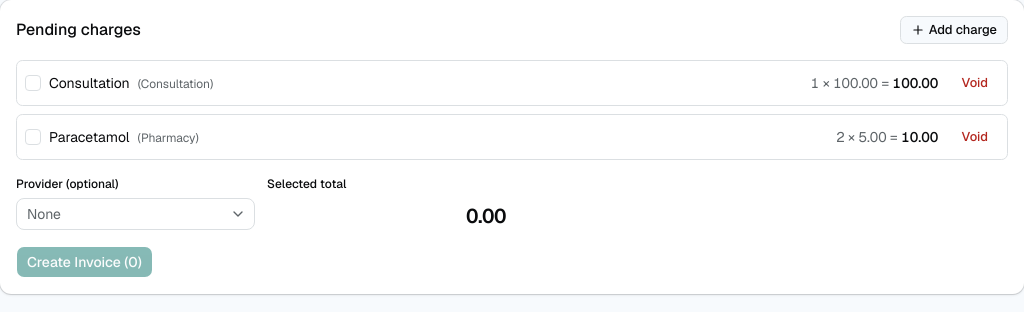
Test: PendingCharges — selection drives invoice-creation state › enables Create Invoice with the real count and total once a charge is selected, and reverts when deselected
Click the 1st checkbox named "consultation".
click(33, 83)  # box [25,75,41,91]
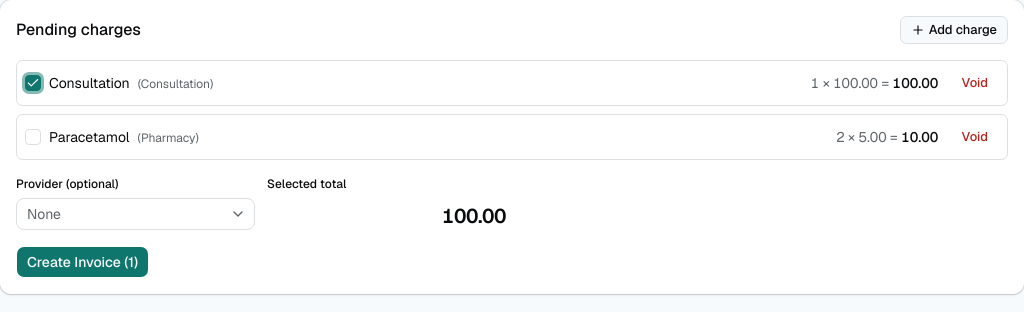
Expected: the button "Create Invoice (1)" is enabled, [16,246,149,278]
Expected: the text "Selected total 100.00" is shown, [267,176,506,230]
Click the 1st checkbox named "consultation".
click(33, 83)  # box [25,75,41,91]
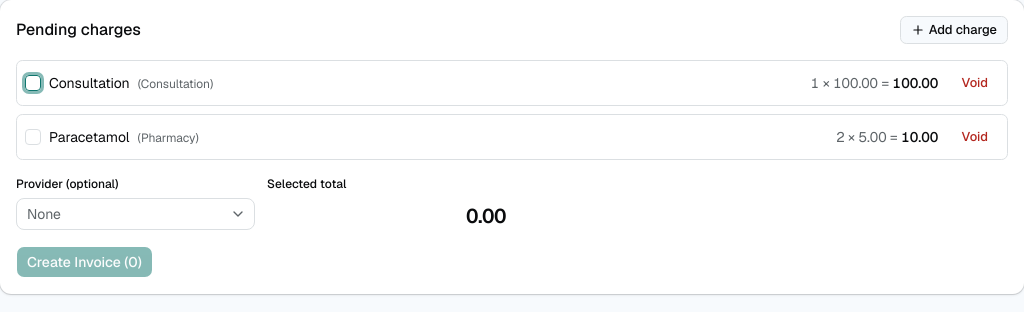
Expected: the button "Create Invoice (0)" is disabled, [16,246,153,278]
